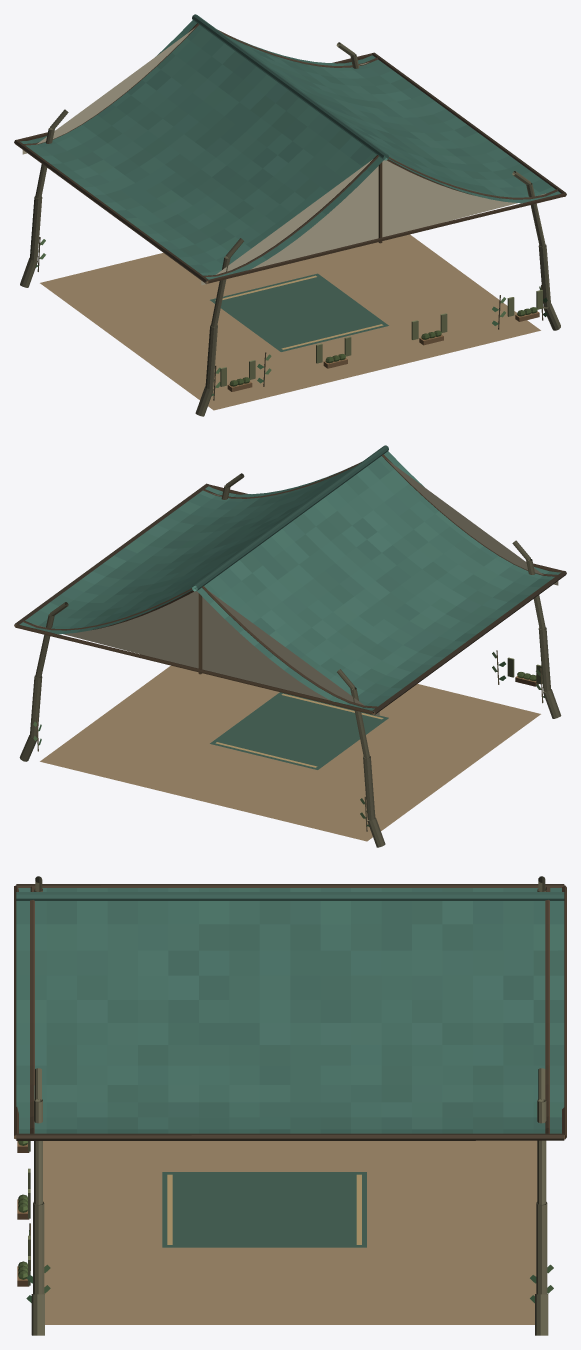
The picture shows the model from 3 angles, top to bottom: view 1: azimuth 30°, elevation 25°; view 2: azimuth 150°, elevation 25°; view 3: azimuth 270°, elevation 25°; orthographic projection. The views are drawn at different scales.
Visible parts, largest first — view 1: 79de8292c9c278ef4ed858f207d90090cda490bb4c967180b3c76293abd4; view 2: 79de8292c9c278ef4ed858f207d90090cda490bb4c967180b3c76293abd4; view 3: 79de8292c9c278ef4ed858f207d90090cda490bb4c967180b3c76293abd4.
Boxes of the visible parts, left/top/right/bottom form: 79de8292c9c278ef4ed858f207d90090cda490bb4c967180b3c76293abd4: left=14, top=14, right=566, bottom=416; 79de8292c9c278ef4ed858f207d90090cda490bb4c967180b3c76293abd4: left=14, top=445, right=566, bottom=847; 79de8292c9c278ef4ed858f207d90090cda490bb4c967180b3c76293abd4: left=14, top=876, right=566, bottom=1335.
Size of the model in its own units: 14.13 by 8.31 by 12.97.
Materials: 6 (1 with a texture image).
